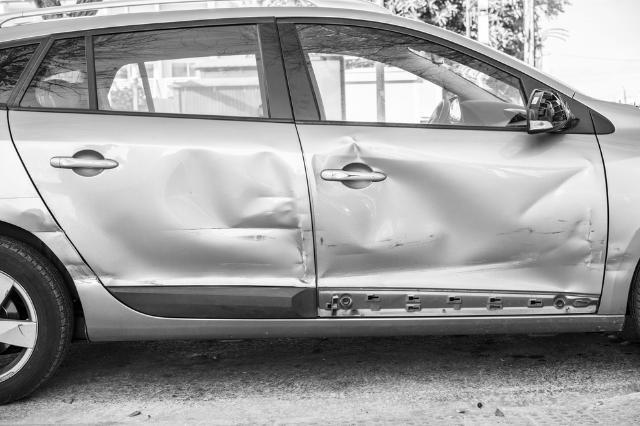Door: (304, 129, 611, 318), (125, 138, 316, 297)
